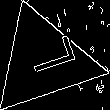L_W: (14, 38, 75, 84)
